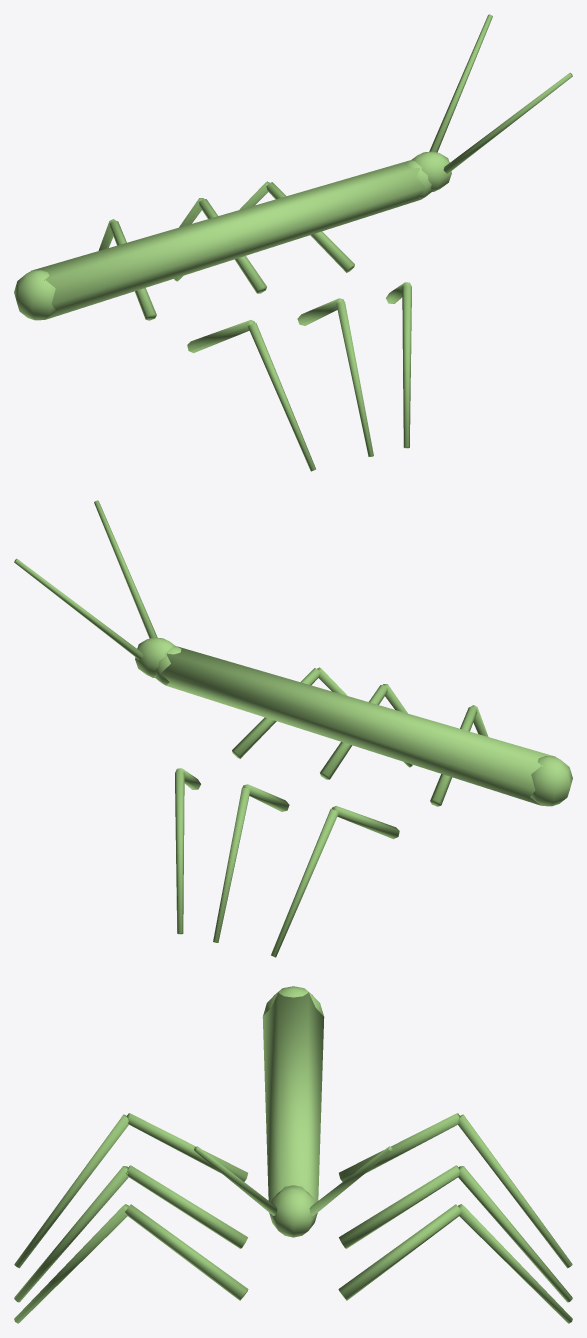
The model's file is green-bean-stick-insect.glb.
3 views of the same model, one above another, from view 1: azimuth 30°, elevation 25°; view 2: azimuth 150°, elevation 25°; view 3: azimuth 270°, elevation 25° (orthographic). The views are drawn at different scales.
Parts seen in each view (by area): view 1: e; view 2: e; view 3: e.
Part boxes in pixels (box(x1,y1,x2,y2)): e: box(14, 14, 572, 471); e: box(14, 500, 572, 957); e: box(14, 986, 572, 1323).
Size of the model in its own units: 0.5818 by 0.2836 by 0.455.
